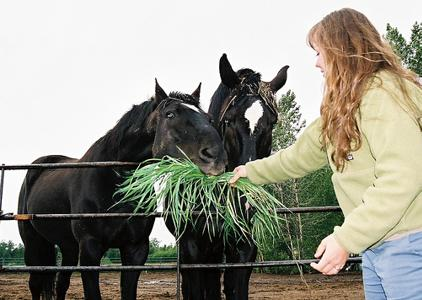person: (224, 8, 421, 300)
